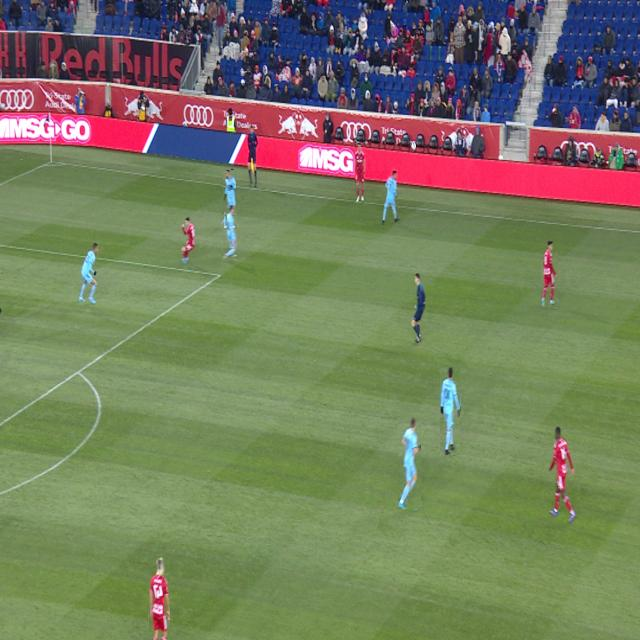player: (549, 427, 576, 522), (399, 417, 421, 509), (149, 557, 170, 640), (441, 367, 460, 455), (79, 243, 98, 305), (542, 241, 558, 307), (382, 170, 399, 225), (222, 206, 237, 259), (355, 143, 365, 203), (182, 217, 195, 263), (224, 171, 236, 211), (224, 213, 227, 228)
referee: (411, 273, 425, 343)
